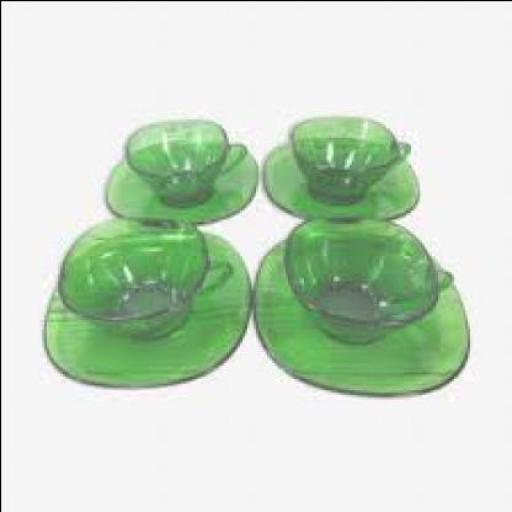glass: (258, 236, 472, 392), (46, 223, 252, 385), (287, 211, 453, 342), (61, 214, 234, 336), (264, 133, 419, 221), (107, 138, 257, 221), (127, 114, 248, 207), (291, 114, 412, 202)
